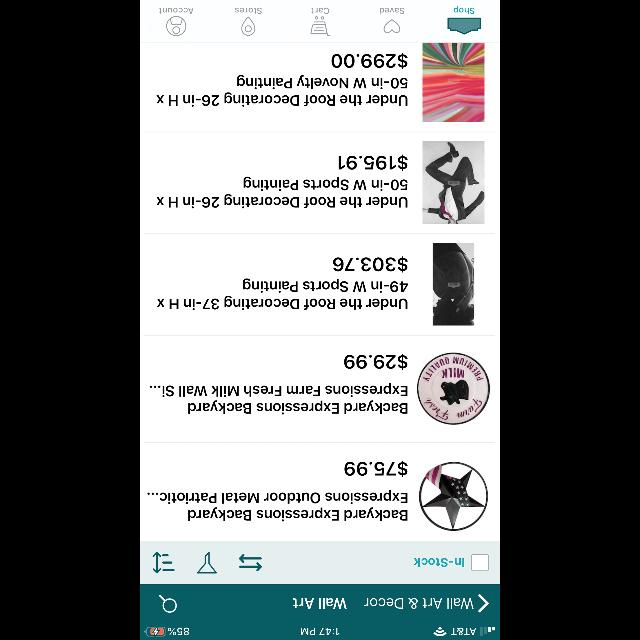checkbox: (472, 554, 488, 572)
icon: (152, 551, 174, 573), (310, 16, 330, 36), (166, 16, 186, 36), (238, 554, 262, 570), (160, 595, 177, 613), (241, 16, 255, 36), (384, 19, 401, 33), (478, 594, 488, 612)
image: (416, 352, 489, 424), (422, 141, 483, 223), (422, 42, 484, 121), (418, 462, 488, 530), (432, 243, 473, 325), (448, 18, 480, 34), (197, 551, 217, 573)
text: (156, 176, 408, 208), (157, 278, 407, 310), (147, 490, 407, 520), (150, 384, 408, 414), (156, 76, 408, 106), (331, 53, 407, 69), (333, 256, 407, 272), (338, 154, 408, 170), (364, 598, 474, 608), (344, 461, 408, 477), (344, 354, 408, 370), (294, 598, 346, 608), (414, 558, 464, 566), (159, 8, 193, 14), (234, 8, 262, 14), (454, 6, 474, 14), (380, 8, 404, 14), (311, 8, 329, 15)
uppertaskbar: (140, 626, 500, 640)
